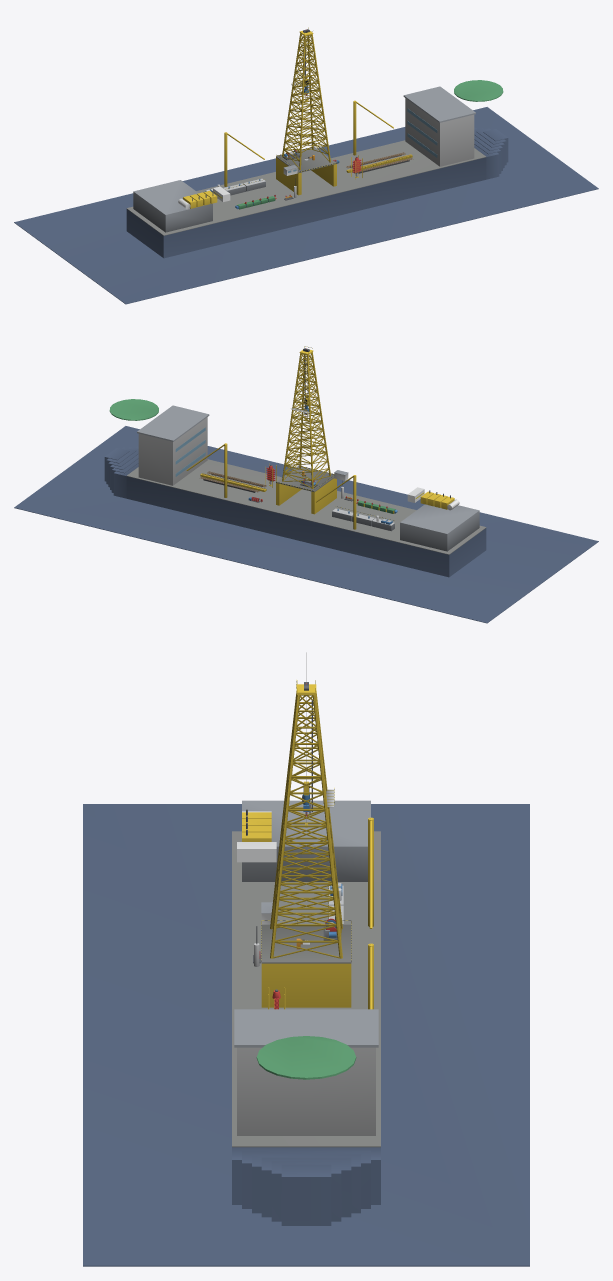
Rendered from ship_med.glb.
3 views of the same model, one above another, from view 1: azimuth 30°, elevation 25°; view 2: azimuth 150°, elevation 25°; view 3: azimuth 270°, elevation 25° (orthographic). The views are drawn at different scales.
Parts seen in each view (by area): view 1: hull__sea, hull__hull, mast__mast, mast__substructure, mast__floor, generators__gensets; view 2: hull__sea, hull__hull, mast__mast, mast__substructure, mast__floor, mudtanks__tanks, generators__gensets, pipehandling__racker; view 3: hull__sea, hull__hull, mast__mast, mast__substructure, mast__floor, generators__gensets, generators__vfd.
Part boxes in pixels (bbox=[...]): hull__sea: bbox=[14, 107, 598, 304]; hull__hull: bbox=[126, 80, 508, 258]; mast__mast: bbox=[282, 33, 330, 169]; mast__substructure: bbox=[276, 157, 336, 195]; mast__floor: bbox=[276, 146, 336, 173]; generators__gensets: bbox=[183, 190, 217, 208]; hull__sea: bbox=[14, 426, 598, 623]; hull__hull: bbox=[104, 399, 486, 577]; mast__mast: bbox=[282, 352, 330, 488]; mast__substructure: bbox=[276, 478, 336, 514]; mast__floor: bbox=[276, 465, 334, 492]; mudtanks__tanks: bbox=[332, 506, 394, 531]; generators__gensets: bbox=[420, 490, 454, 509]; pipehandling__racker: bbox=[200, 471, 266, 492]; hull__sea: bbox=[83, 804, 529, 1266]; hull__hull: bbox=[232, 800, 380, 1225]; mast__mast: bbox=[270, 691, 342, 958]; mast__substructure: bbox=[261, 963, 351, 1007]; mast__floor: bbox=[261, 920, 351, 963]; generators__gensets: bbox=[242, 809, 271, 841]; generators__vfd: bbox=[237, 842, 276, 862].
Bounding box in the file's own units: 220 × 92.72 × 90.
